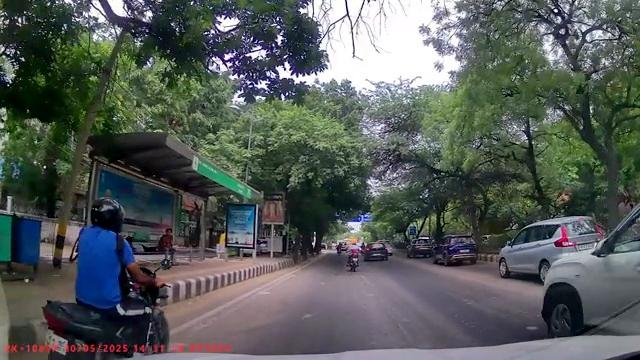motorcycle_with_helmet: (42, 194, 173, 354)
